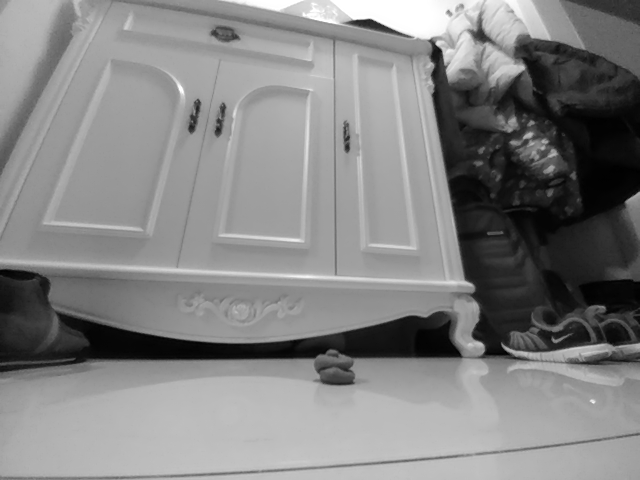pet feces: (313, 347, 357, 385)
shoe: (1, 271, 88, 368), (498, 305, 624, 365), (585, 306, 640, 359)
